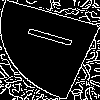I: (25, 24, 86, 53)
